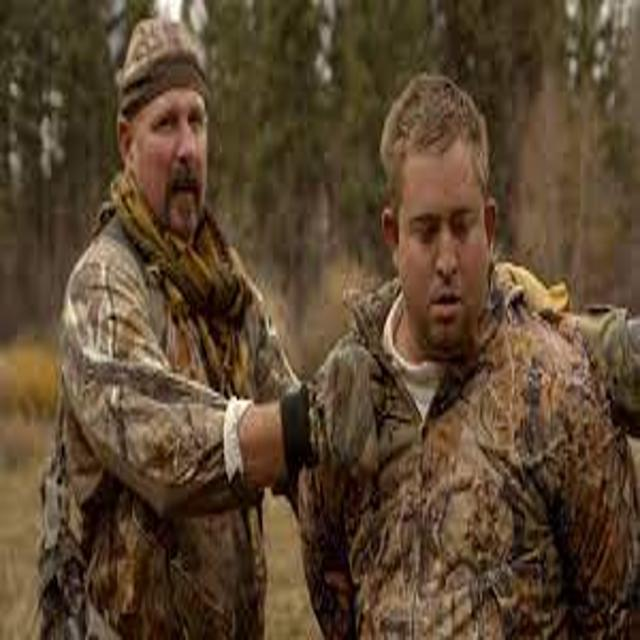poacher: (218, 60, 640, 635)
ranger: (20, 1, 382, 636)
